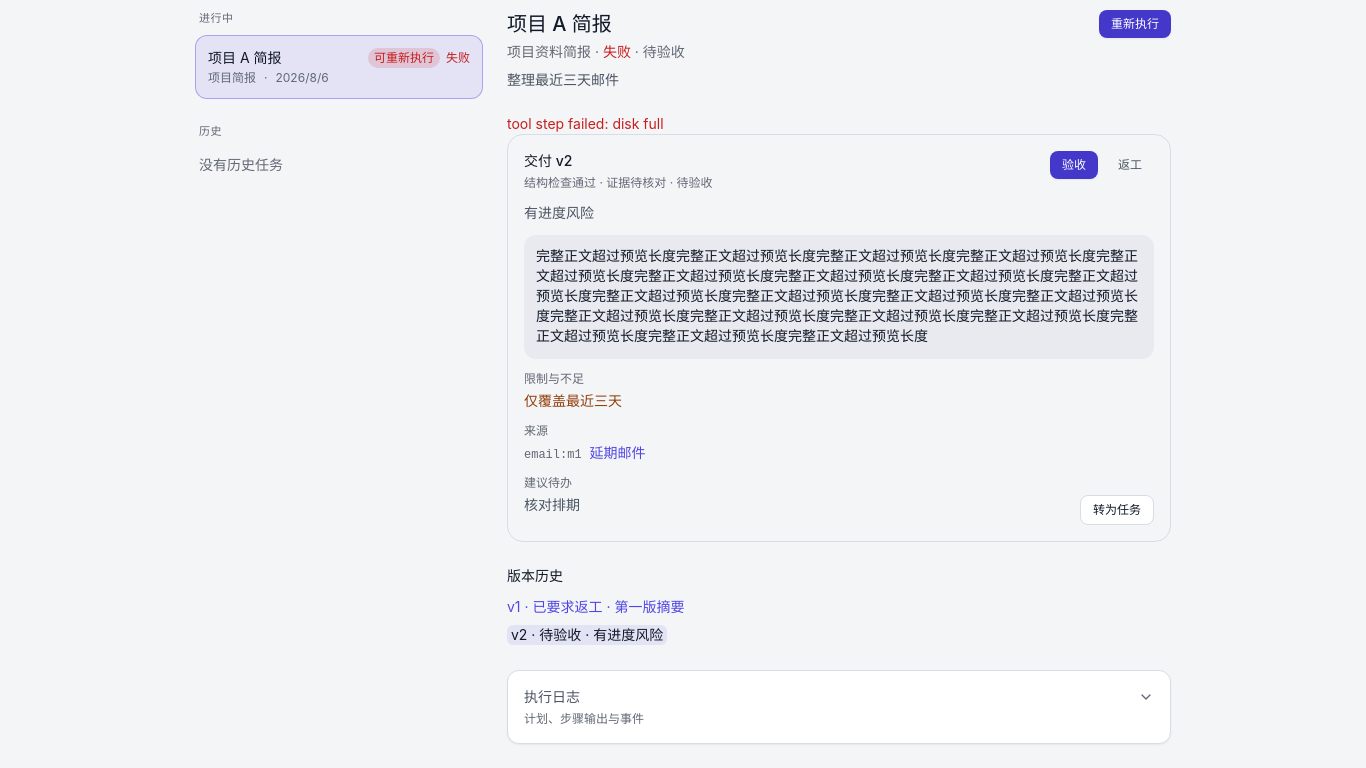
TasksPage › shows a rework failure reason above the existing delivery while the log stays collapsed
(page scrolled)
Expected: the text with test id "rerun-failure-reason" reads "tool step failed: disk full", [507, 115, 664, 132]
Expected: the text "有进度风险" is shown, [524, 204, 594, 221]
Click the button "执行日志 计划、步骤输出与事件" at (552, 696), box [524, 687, 1154, 727]
(page scrolled)
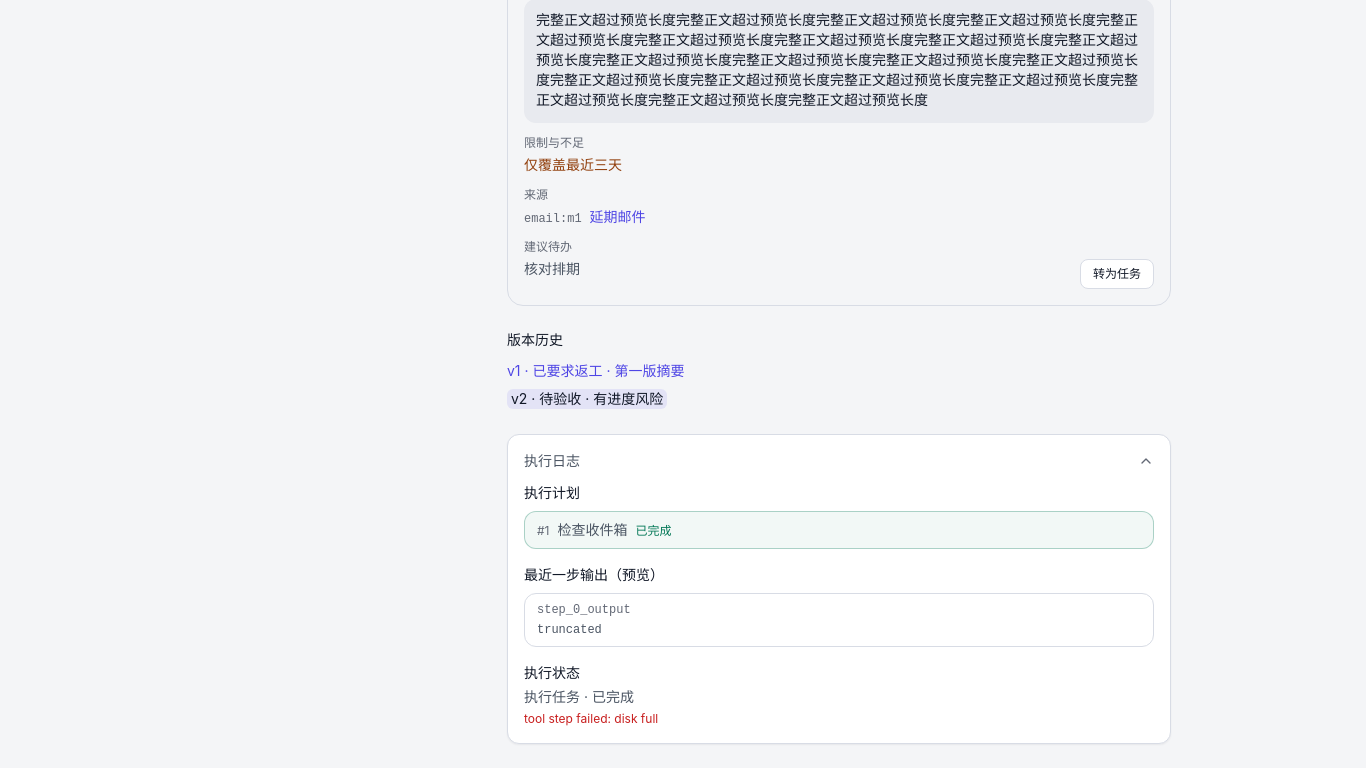
Result: the element "执行状态" shows "tool step failed: disk full" at [524, 711, 658, 726]
